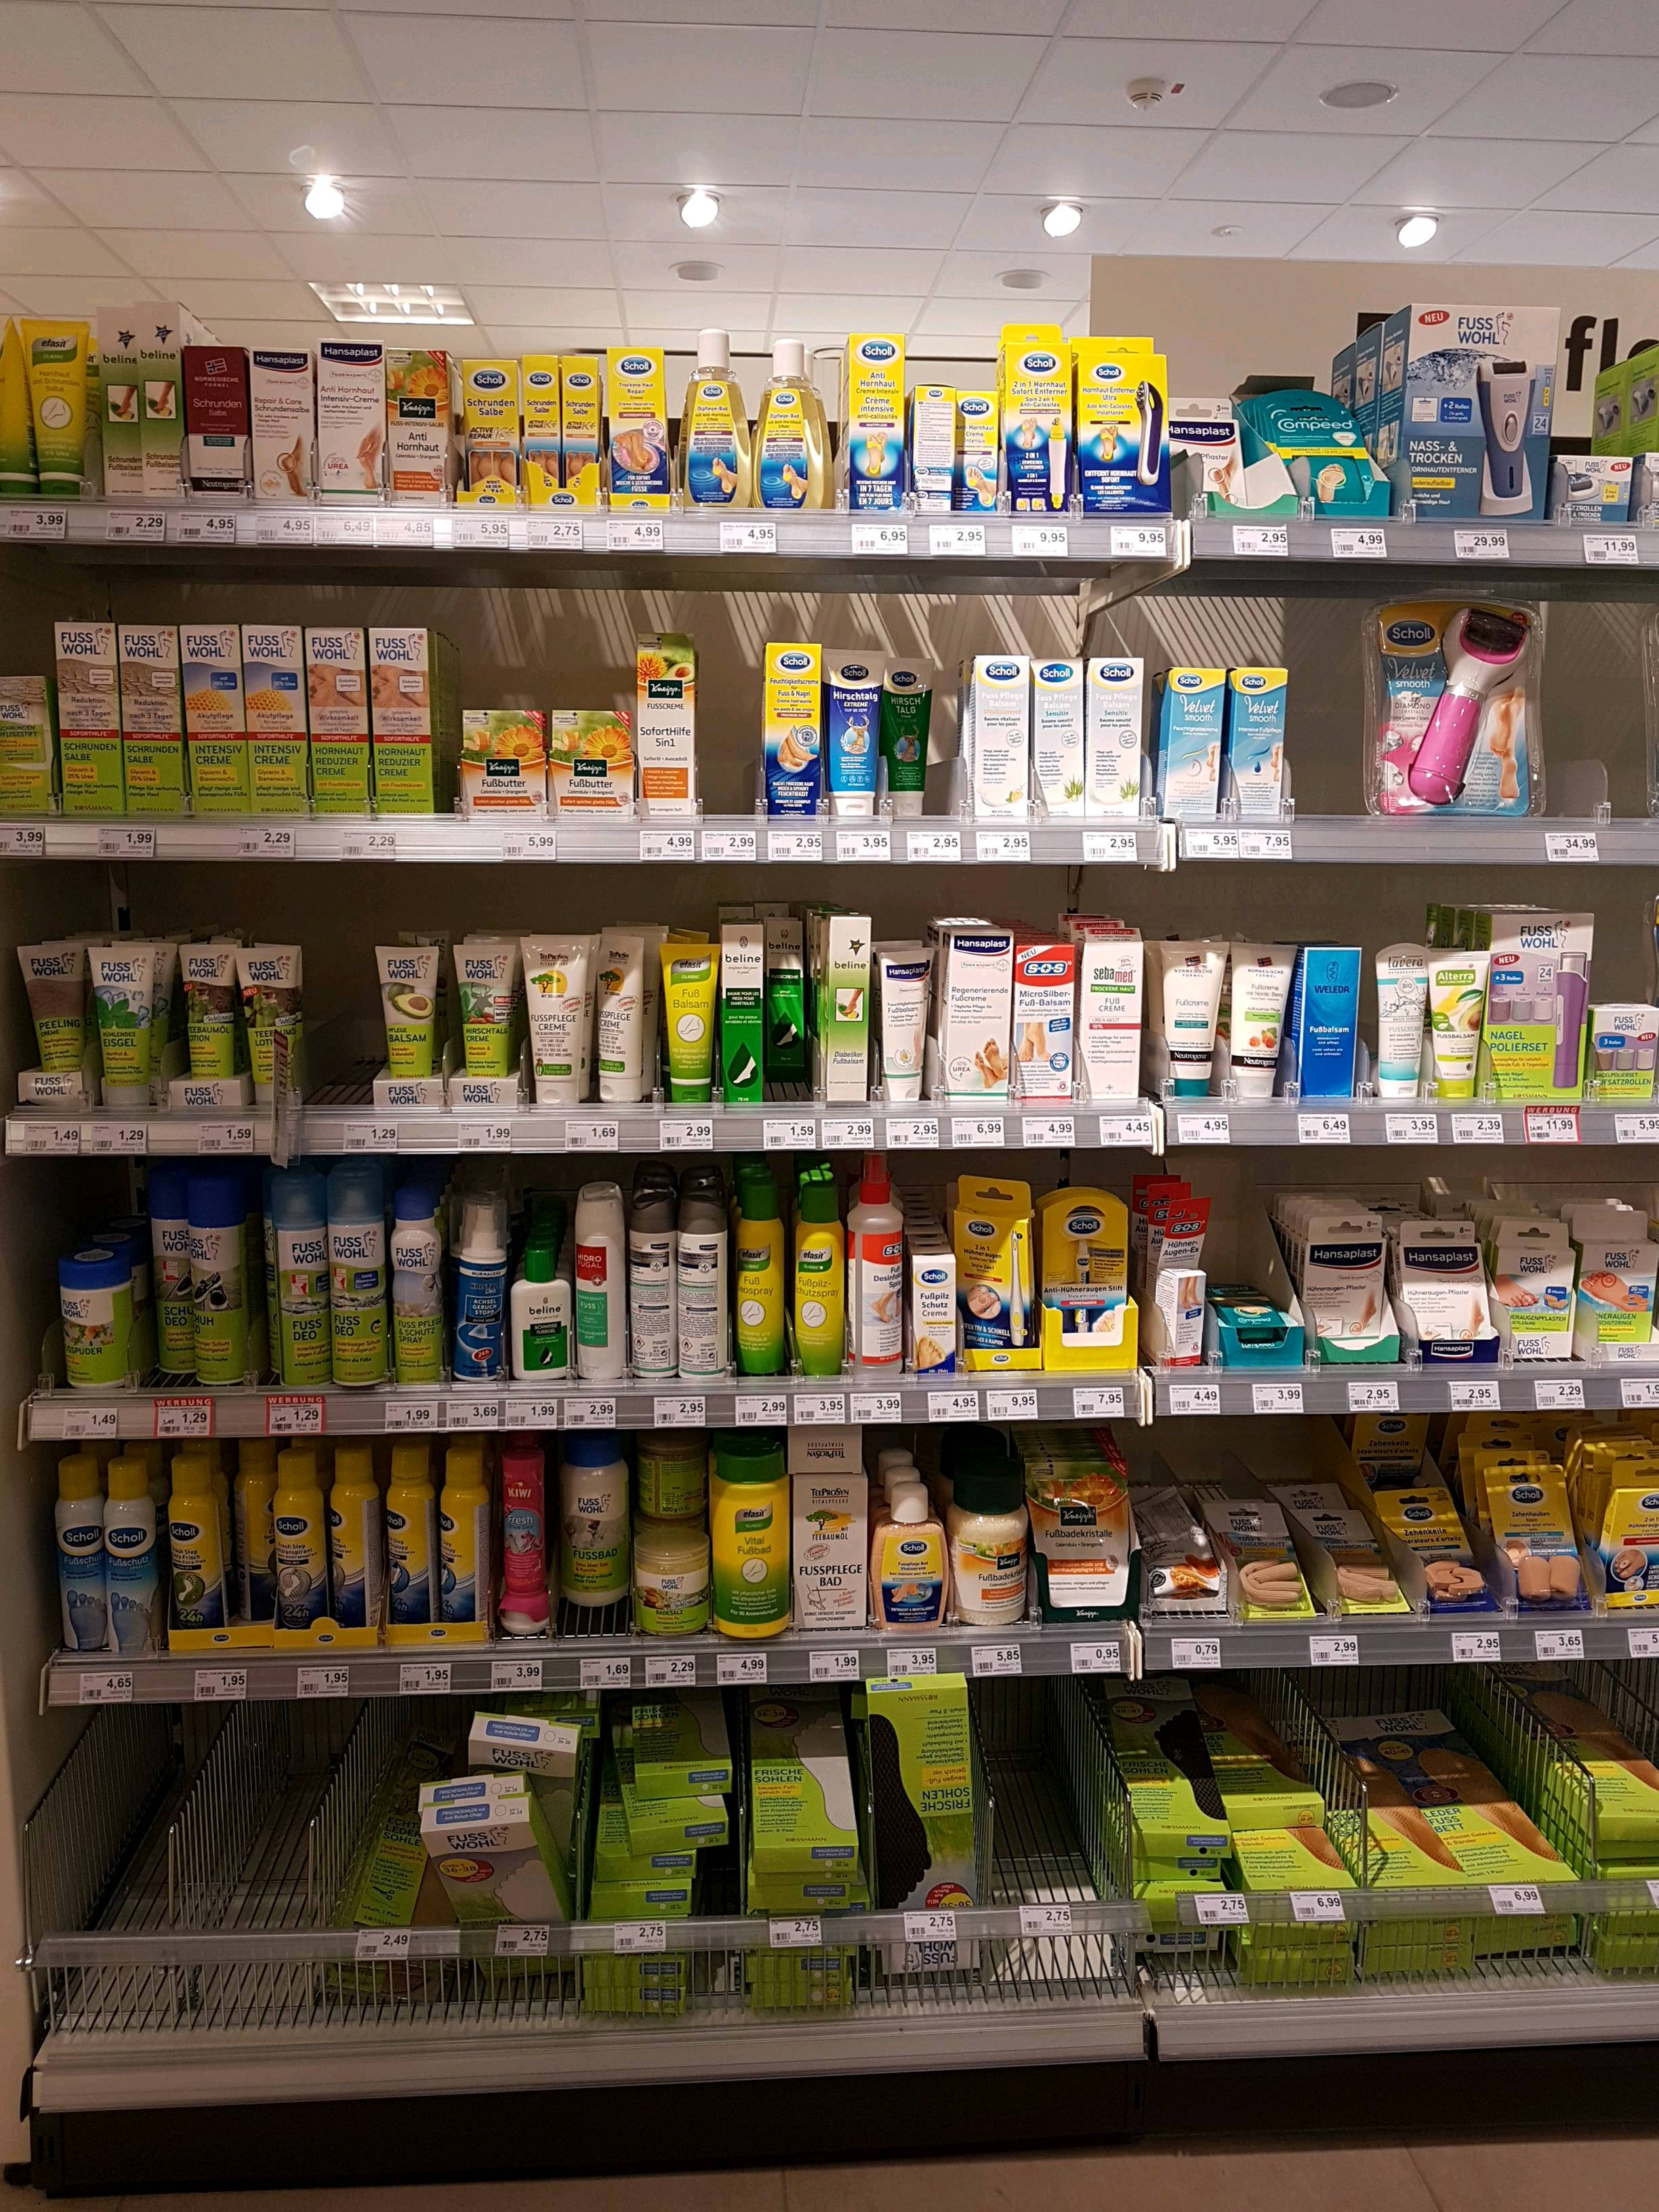product: (1351, 580, 1551, 819), (1384, 294, 1549, 519), (1368, 1695, 1546, 1883), (871, 1677, 981, 1909), (446, 1780, 561, 1954), (1547, 1667, 1657, 1839), (1506, 904, 1591, 1116), (1213, 1672, 1328, 1827), (755, 1698, 859, 1867), (718, 1449, 796, 1651), (674, 314, 753, 514), (1077, 338, 1166, 514), (3, 932, 87, 1118), (1037, 1456, 1133, 1618), (1126, 1195, 1213, 1369), (1040, 1191, 1126, 1369), (31, 1446, 105, 1651), (1300, 928, 1389, 1094), (376, 942, 462, 1113), (798, 1167, 870, 1371), (52, 618, 125, 817), (260, 1174, 333, 1371), (336, 1157, 396, 1386), (999, 320, 1070, 510), (1272, 387, 1380, 510), (751, 338, 829, 507), (443, 1421, 498, 1656), (1403, 1219, 1500, 1353), (1009, 949, 1094, 1101), (183, 618, 249, 813), (305, 622, 371, 815), (373, 627, 441, 815), (1312, 1207, 1399, 1353), (450, 1200, 516, 1390), (528, 932, 596, 1116), (960, 1174, 1030, 1353), (84, 927, 150, 1115), (315, 341, 387, 514), (56, 1242, 134, 1399), (1157, 937, 1234, 1097), (169, 946, 244, 1109), (840, 334, 904, 524), (685, 1186, 746, 1386), (964, 1461, 1035, 1632), (1213, 660, 1290, 819), (823, 900, 878, 1116), (878, 1477, 957, 1630), (760, 639, 826, 820), (31, 310, 94, 500), (159, 1442, 218, 1641), (1586, 1197, 1657, 1360), (605, 343, 673, 514), (577, 1179, 633, 1386), (460, 941, 526, 1115), (401, 1177, 453, 1397), (502, 1432, 556, 1642), (387, 1449, 441, 1660), (1122, 1677, 1206, 1813), (967, 651, 1033, 822), (141, 1163, 192, 1386), (331, 1451, 389, 1646), (242, 935, 308, 1104), (1509, 1212, 1584, 1360), (598, 930, 659, 1111), (545, 707, 641, 822), (225, 1435, 279, 1639), (795, 1477, 866, 1630), (108, 1447, 160, 1656), (249, 624, 307, 813), (127, 620, 183, 813), (1506, 1477, 1586, 1611), (197, 1177, 249, 1381), (281, 1435, 331, 1646), (882, 941, 943, 1115), (1150, 650, 1213, 819), (563, 1432, 626, 1599), (186, 341, 251, 503), (953, 921, 1009, 1108), (1096, 925, 1155, 1097), (633, 1695, 734, 1796), (1230, 1508, 1314, 1630), (253, 341, 315, 503), (1427, 953, 1497, 1097), (390, 348, 453, 509), (457, 707, 544, 822), (882, 648, 938, 827), (1141, 1480, 1218, 1609), (1237, 939, 1300, 1096), (1086, 653, 1143, 822), (1413, 1491, 1497, 1606), (633, 1204, 685, 1386), (1209, 1259, 1297, 1369), (640, 644, 695, 813), (866, 1167, 911, 1374), (826, 646, 882, 812), (1033, 655, 1087, 822), (746, 1183, 793, 1372), (667, 939, 718, 1113), (1323, 1515, 1406, 1620), (141, 301, 183, 505), (718, 932, 765, 1111), (519, 1242, 575, 1392), (98, 310, 139, 507), (460, 366, 516, 510), (1178, 397, 1248, 512), (1603, 1470, 1659, 1611), (559, 355, 605, 523), (760, 918, 805, 1085), (633, 1547, 708, 1648), (1554, 453, 1642, 533), (1244, 1832, 1354, 1895), (1589, 1005, 1659, 1101), (514, 357, 556, 510), (0, 305, 30, 500), (1389, 946, 1427, 1096), (636, 1432, 699, 1519), (913, 1256, 958, 1374), (471, 1712, 579, 1761), (908, 395, 953, 509), (953, 397, 997, 509), (584, 1878, 695, 1918), (795, 1425, 870, 1479), (1122, 1846, 1227, 1885), (629, 1815, 741, 1850), (746, 1878, 868, 1907), (1133, 1822, 1232, 1855), (598, 1857, 699, 1879)
